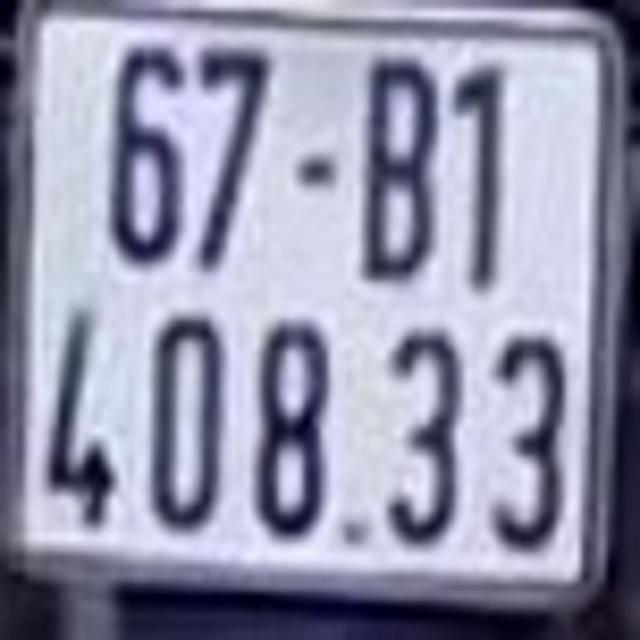0: (142, 304, 224, 539)
1: (445, 50, 512, 289)
3: (384, 320, 462, 553), (491, 321, 567, 554)
4: (45, 307, 118, 536)
6: (106, 43, 185, 264)
7: (192, 44, 270, 271)
8: (258, 308, 329, 543)
B: (358, 56, 440, 282)
